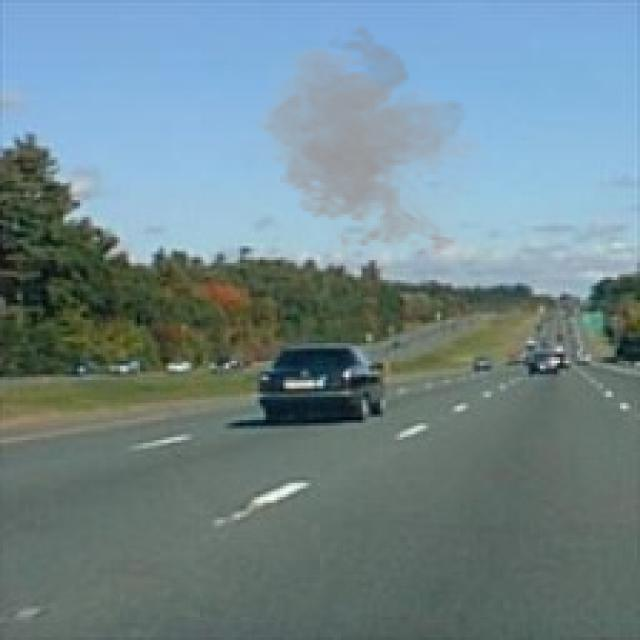smoke: (252, 23, 492, 263)
